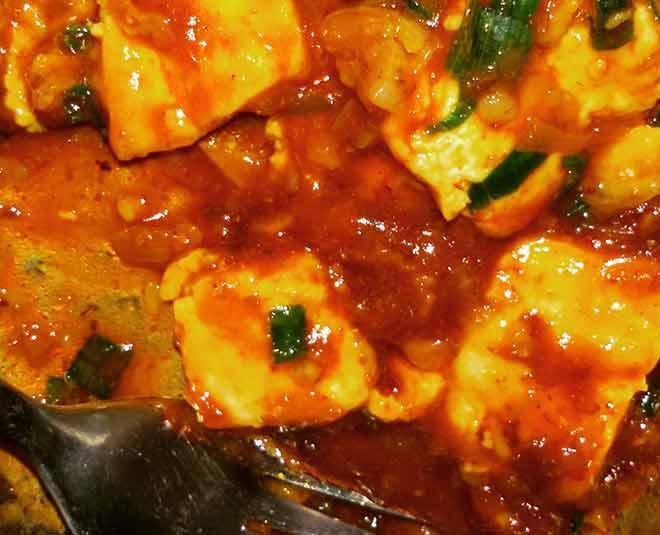paneer: (1, 7, 660, 371)
